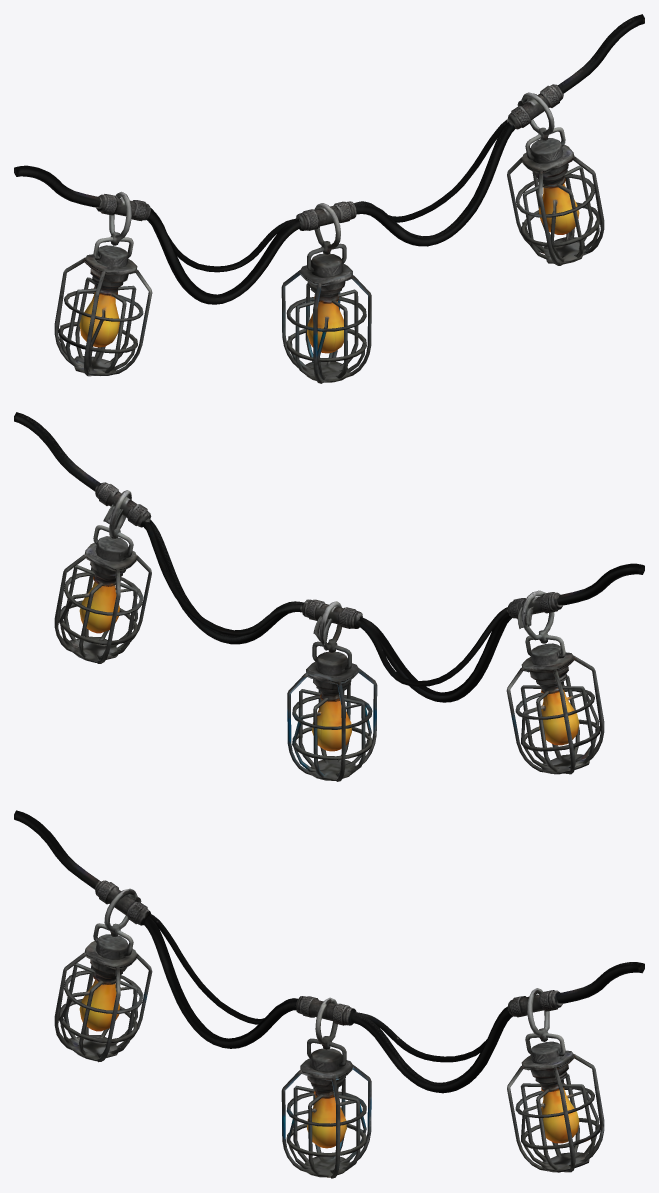
Rendered from SM_IndustrialHangingLamp.fbx.
The picture shows the model from 3 angles, top to bottom: view 1: azimuth 30°, elevation 25°; view 2: azimuth 150°, elevation 25°; view 3: azimuth 330°, elevation 25°; orthographic projection.
Visible parts, largest first — view 1: tripo_383e01ab_4508_4114_bd57_232c4d1bc197; view 2: tripo_383e01ab_4508_4114_bd57_232c4d1bc197; view 3: tripo_383e01ab_4508_4114_bd57_232c4d1bc197.
Boxes of the visible parts, x1,y1,x2,y2 form: tripo_383e01ab_4508_4114_bd57_232c4d1bc197: (14,14,644,383); tripo_383e01ab_4508_4114_bd57_232c4d1bc197: (14,412,644,781); tripo_383e01ab_4508_4114_bd57_232c4d1bc197: (14,810,644,1178).
Bounding box in the file's own units: 0.9995 × 0.438 × 0.1118.
Materials: 1 (1 with a texture image).
